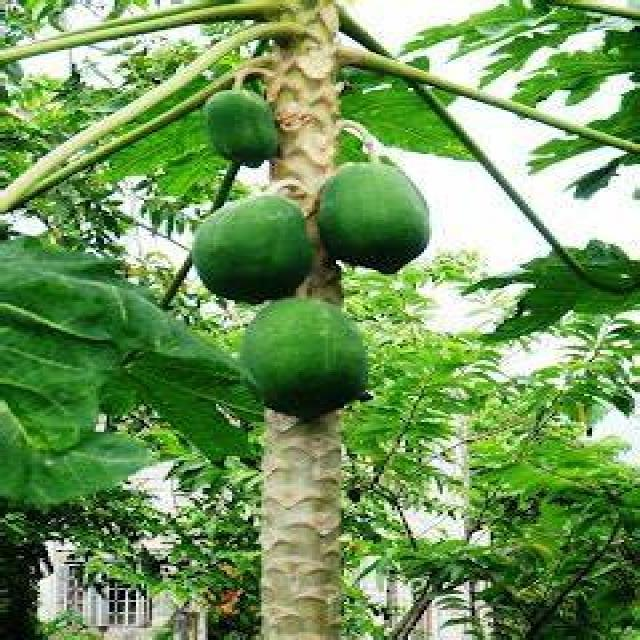Pepaya unrippen: (237, 298, 376, 420), (314, 156, 442, 278), (179, 196, 312, 300), (205, 80, 283, 166)
